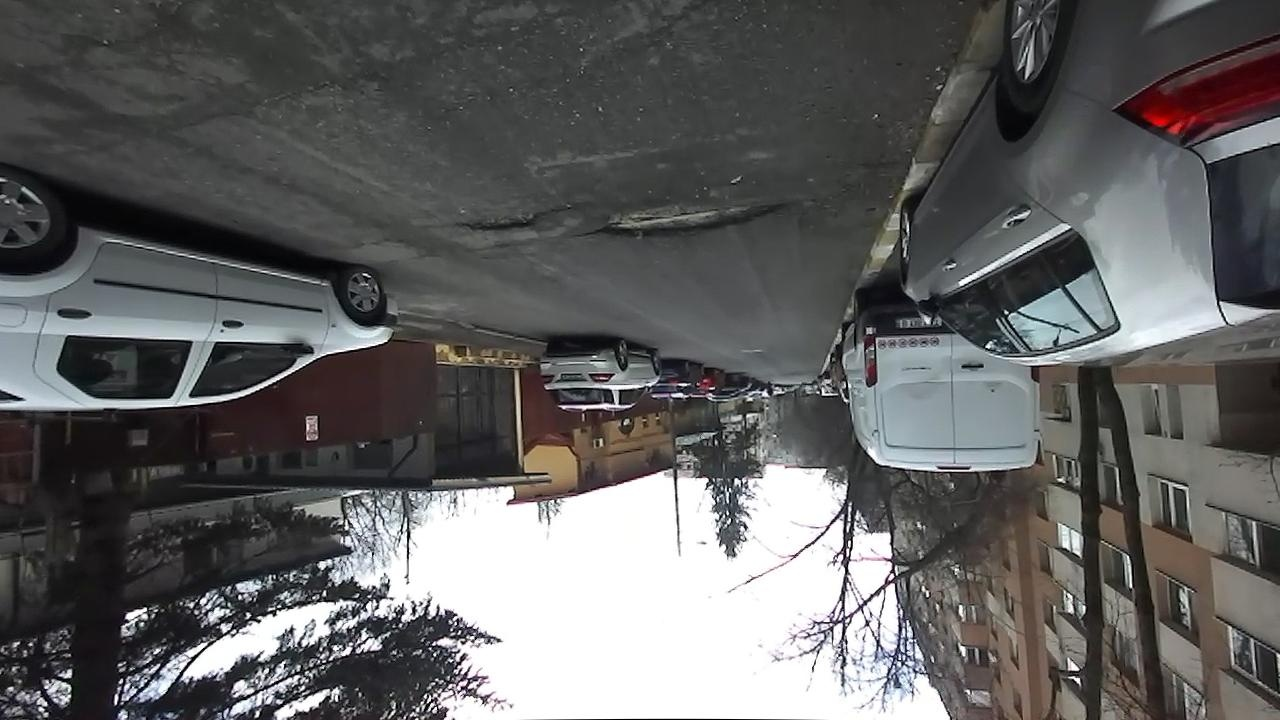pothole: (576, 192, 790, 242), (451, 201, 572, 235)
